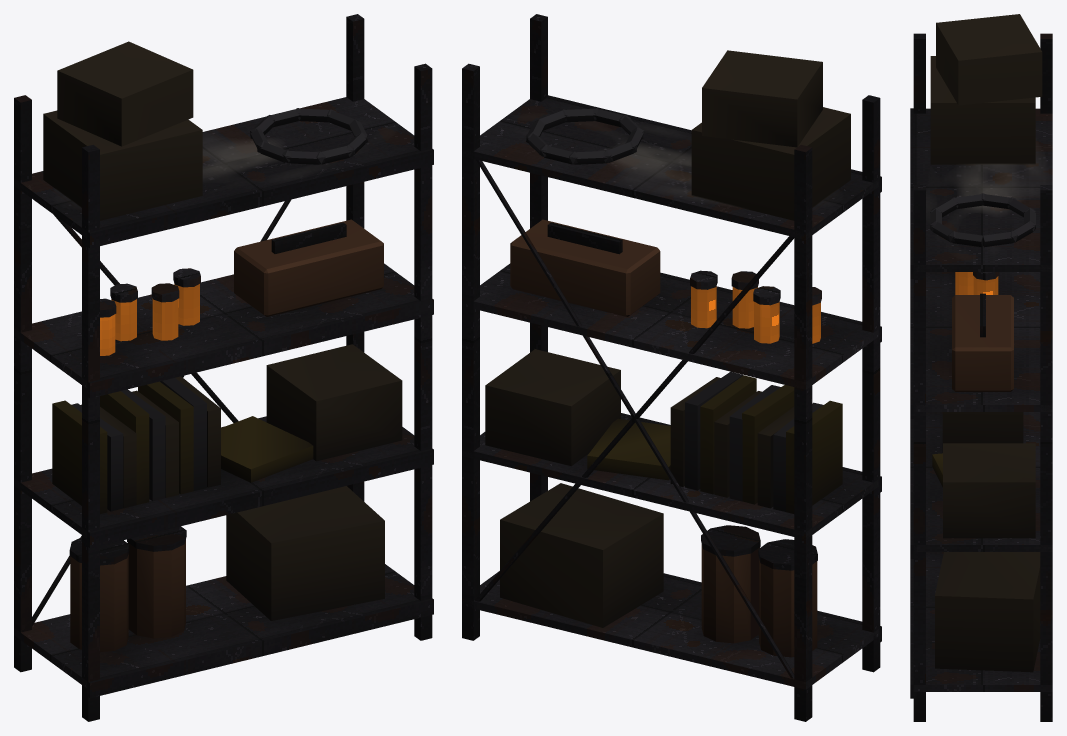
Rendered from shelf_rack.glb.
The picture shows the model from 3 angles, left to right: view 1: azimuth 30°, elevation 25°; view 2: azimuth 150°, elevation 25°; view 3: azimuth 270°, elevation 25°; orthographic projection. The views are drawn at different scales.
Parts seen in each view (by area): view 1: body, decals; view 2: body, decals; view 3: body, decals.
Boxes of the visible parts, x1,y1,x2,y2 form: body: (14, 14, 433, 721); decals: (203, 138, 280, 178); body: (462, 14, 881, 721); decals: (612, 143, 716, 201); body: (910, 14, 1052, 721); decals: (957, 151, 1042, 213).
Size of what is drawn, in the model's own units: 1.2 by 2.01 by 0.46.
8 materials, 4 textured.
